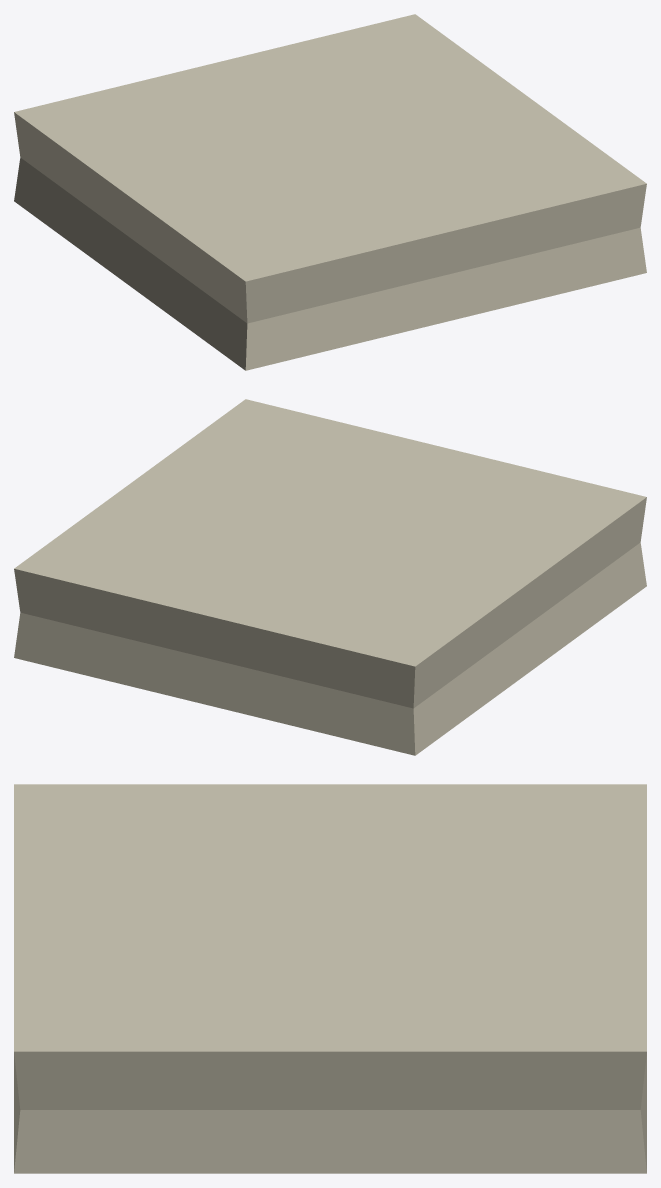
File: modularBuildings_004.fbx
3 renders of one model, top to bottom at view 1: azimuth 30°, elevation 25°; view 2: azimuth 150°, elevation 25°; view 3: azimuth 270°, elevation 25°, orthographic. The views are drawn at different scales.
Parts seen in each view (by area): view 1: Mesh1 Group1 Model; view 2: Mesh1 Group1 Model; view 3: Mesh1 Group1 Model.
Part boxes in pixels (<box>): Mesh1 Group1 Model: <box>14,14,646,370</box>; Mesh1 Group1 Model: <box>14,399,646,755</box>; Mesh1 Group1 Model: <box>14,784,646,1173</box>.
Bounding box in the file's own units: 1 × 0.2125 × 1.
